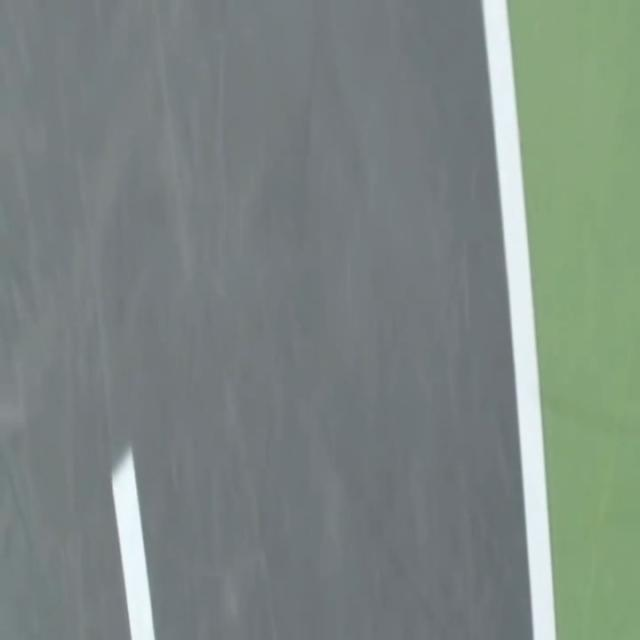center: (112, 448, 155, 639)
right: (482, 0, 556, 639)
